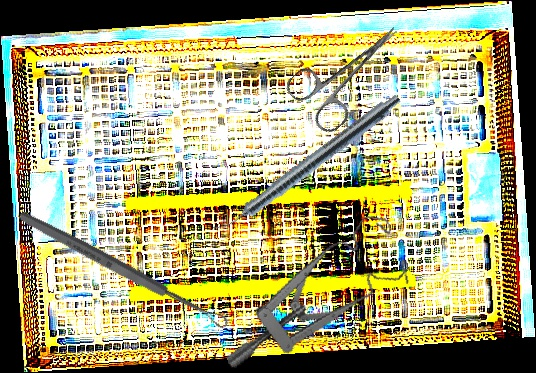Handpiece: (210, 88, 404, 241)
Iris Scissors: (282, 5, 420, 138)
Speculum: (202, 209, 422, 370)
Surgical Spoon: (15, 207, 232, 333)
